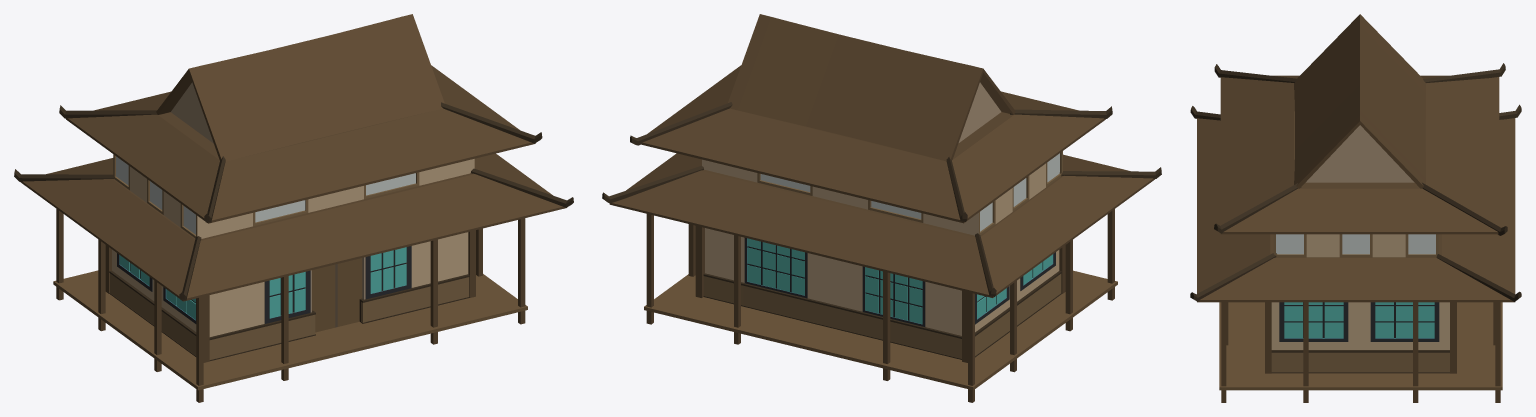
Rendered from Apartment_2.fbx.
3 renders of one model, left to right at view 1: azimuth 30°, elevation 25°; view 2: azimuth 150°, elevation 25°; view 3: azimuth 270°, elevation 25°, orthographic. The views are drawn at different scales.
Visible parts, largest first — view 1: Apartment_2; view 2: Apartment_2; view 3: Apartment_2.
Boxes of the visible parts, x1,y1,x2,y2 form: Apartment_2: (14, 14, 573, 402); Apartment_2: (602, 14, 1161, 402); Apartment_2: (1190, 14, 1521, 402).
Bounding box in the file's own units: 543 × 351 × 403.
